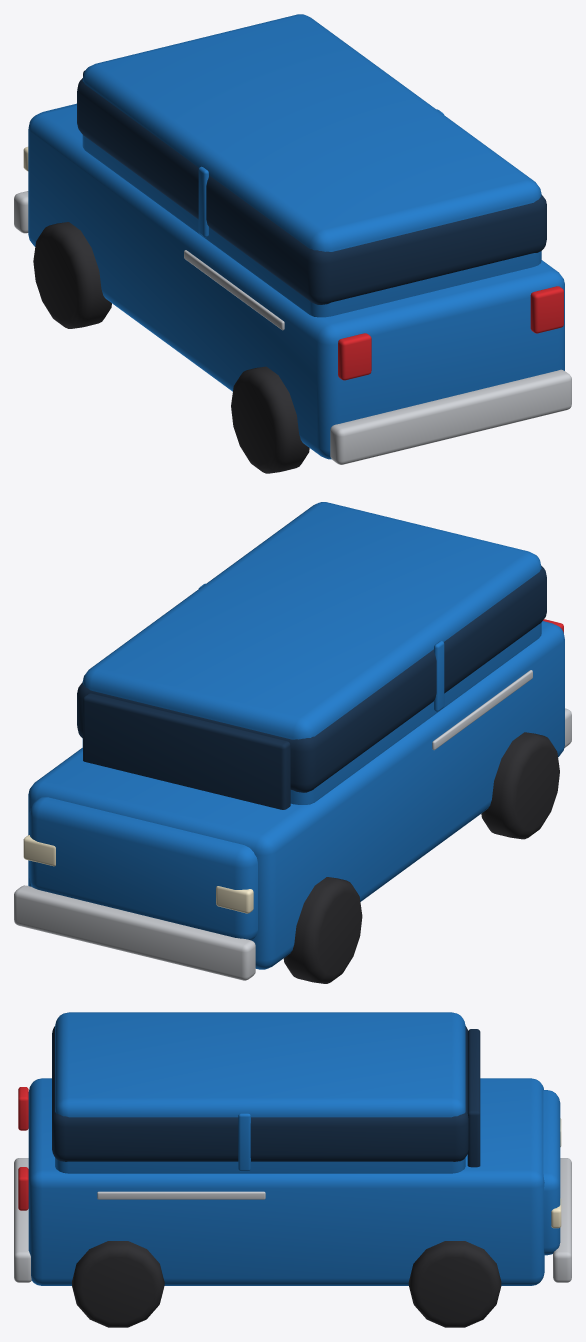
Rendered from minivan-teal.glb.
3 views of the same model, one above another, from view 1: azimuth 30°, elevation 25°; view 2: azimuth 150°, elevation 25°; view 3: azimuth 270°, elevation 25° (orthographic). The views are drawn at different scales.
Visible parts, largest first — view 1: Van_Cabin, Van_Body, Van_GlassBand, Van_BumpR, Wheel_van2, Wheel_van0, Van_Tail_0, Van_Tail_1, Van_SlideRail_-1, Van_Bpil_-1, Van_BumpF; view 2: Van_Cabin, Van_Body, Van_Nose, Van_Windshield, Van_GlassBand, Van_BumpF, Wheel_van2, Wheel_van0, Van_SlideRail_-1, Van_Light_0, Van_Light_1, Van_Bpil_-1; view 3: Van_Body, Van_Cabin, Van_GlassBand, Wheel_van1, Wheel_van3, Van_Nose, Van_Windshield, Van_BumpF, Van_SlideRail_+1, Van_BumpR, Van_Bpil_+1, Van_Tail_0 (+1 smaller).
Boxes of the visible parts, left/top/right/bottom form: Van_Cabin: left=82, top=14, right=541, bottom=317; Van_Body: left=28, top=104, right=564, bottom=459; Van_GlassBand: left=77, top=78, right=546, bottom=304; Van_BumpR: left=330, top=369, right=571, bottom=464; Wheel_van2: left=231, top=366, right=309, bottom=473; Wheel_van0: left=33, top=222, right=111, bottom=328; Van_Tail_0: left=338, top=333, right=371, bottom=380; Van_Tail_1: left=530, top=286, right=563, bottom=333; Van_SlideRail_-1: left=184, top=250, right=284, bottom=330; Van_Bpil_-1: left=198, top=166, right=208, bottom=237; Van_BumpF: left=14, top=191, right=28, bottom=233; Van_Cabin: left=82, top=502, right=541, bottom=804; Van_Body: left=28, top=621, right=564, bottom=969; Van_Nose: left=29, top=797, right=257, bottom=940; Van_Windshield: left=83, top=693, right=290, bottom=809; Van_GlassBand: left=77, top=565, right=546, bottom=792; Van_BumpF: left=14, top=885, right=255, bottom=980; Wheel_van2: left=481, top=732, right=559, bottom=839; Wheel_van0: left=283, top=877, right=362, bottom=983; Van_SlideRail_-1: left=432, top=670, right=532, bottom=750; Van_Light_0: left=216, top=886, right=253, bottom=913; Van_Light_1: left=23, top=835, right=55, bottom=866; Van_Bpil_-1: left=434, top=641, right=444, bottom=711; Van_Body: left=28, top=1078, right=544, bottom=1285; Van_Cabin: left=55, top=1012, right=465, bottom=1173; Van_GlassBand: left=52, top=1026, right=468, bottom=1161; Wheel_van1: left=408, top=1241, right=501, bottom=1327; Wheel_van3: left=72, top=1241, right=164, bottom=1327; Van_Nose: left=543, top=1090, right=560, bottom=1255; Van_Windshield: left=467, top=1029, right=480, bottom=1167; Van_BumpF: left=553, top=1158, right=571, bottom=1282; Van_SlideRail_+1: left=97, top=1191, right=265, bottom=1199; Van_BumpR: left=14, top=1158, right=31, bottom=1282; Van_Bpil_+1: left=238, top=1113, right=250, bottom=1171; Van_Tail_0: left=18, top=1087, right=28, bottom=1130.
Size of the model in its own units: 2.65 by 2.26 by 5.3.
